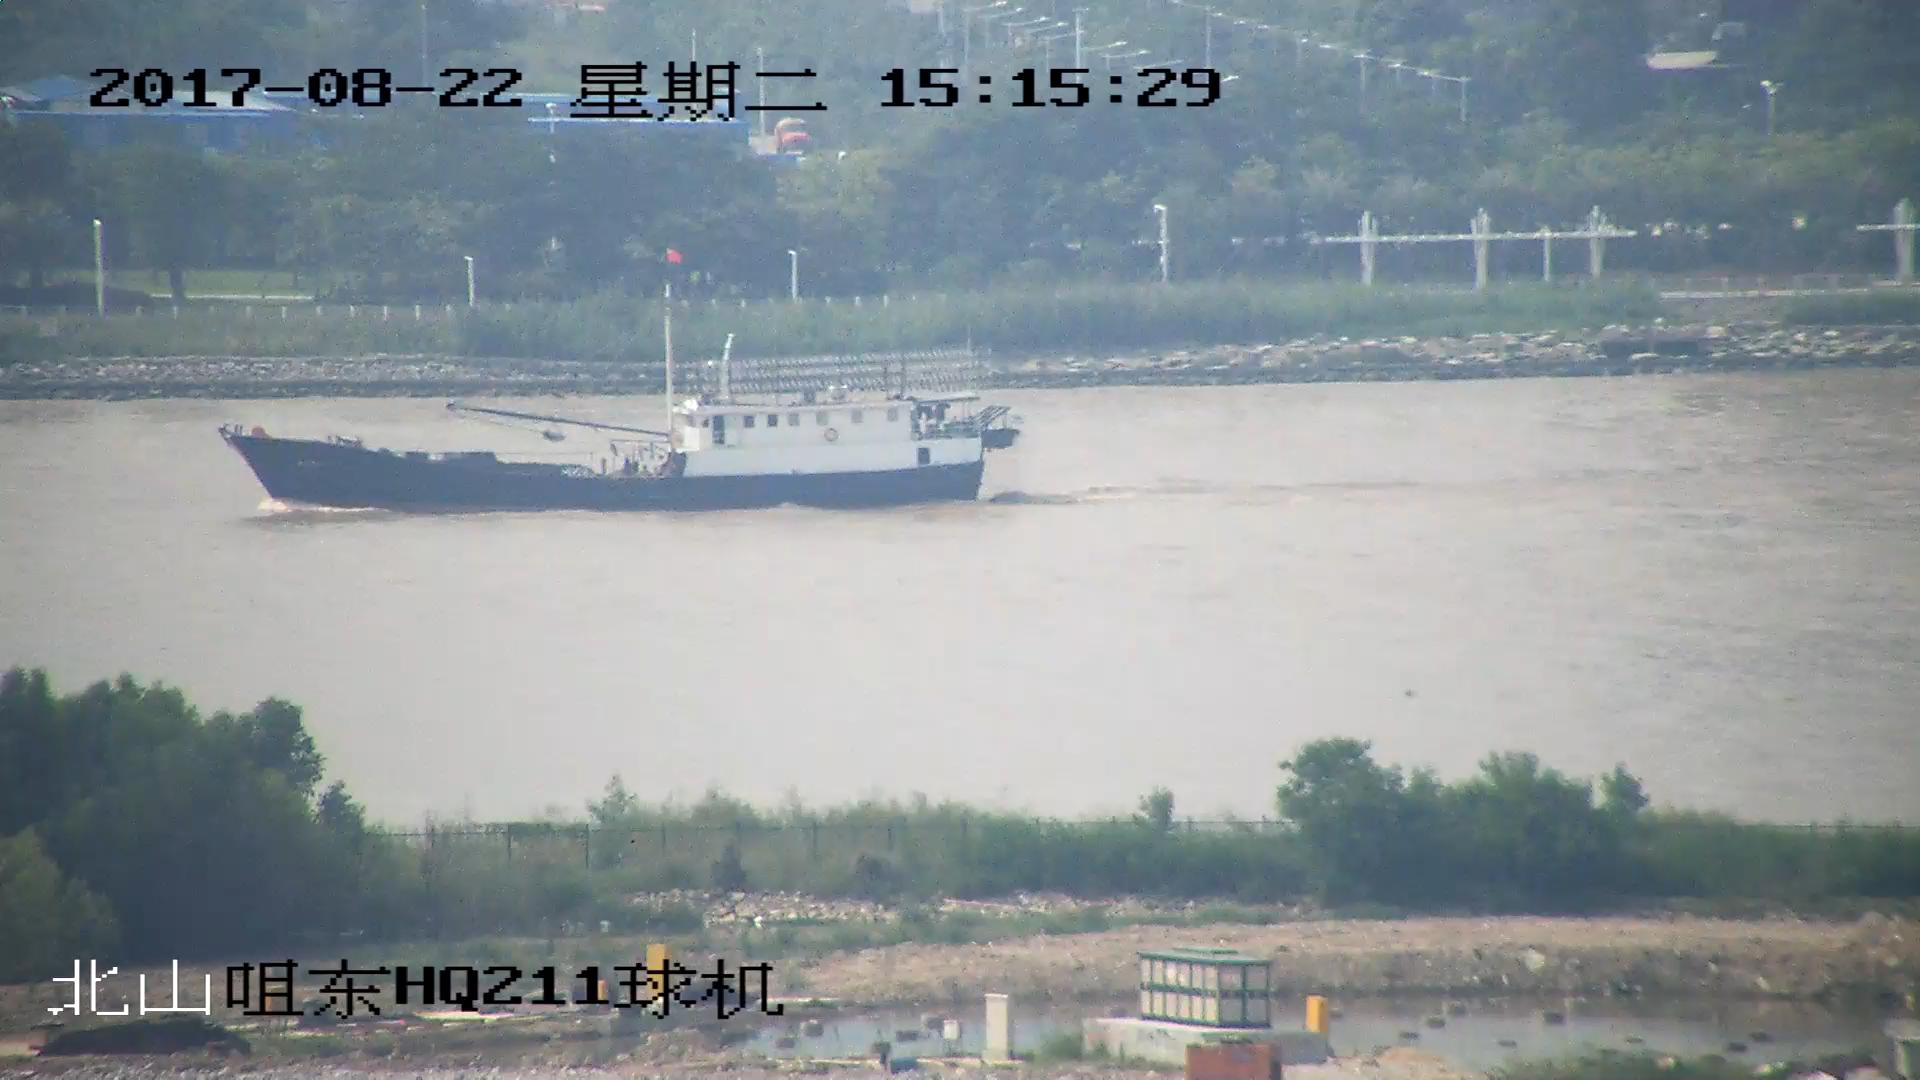fishing boat: (225, 253, 1023, 519)
